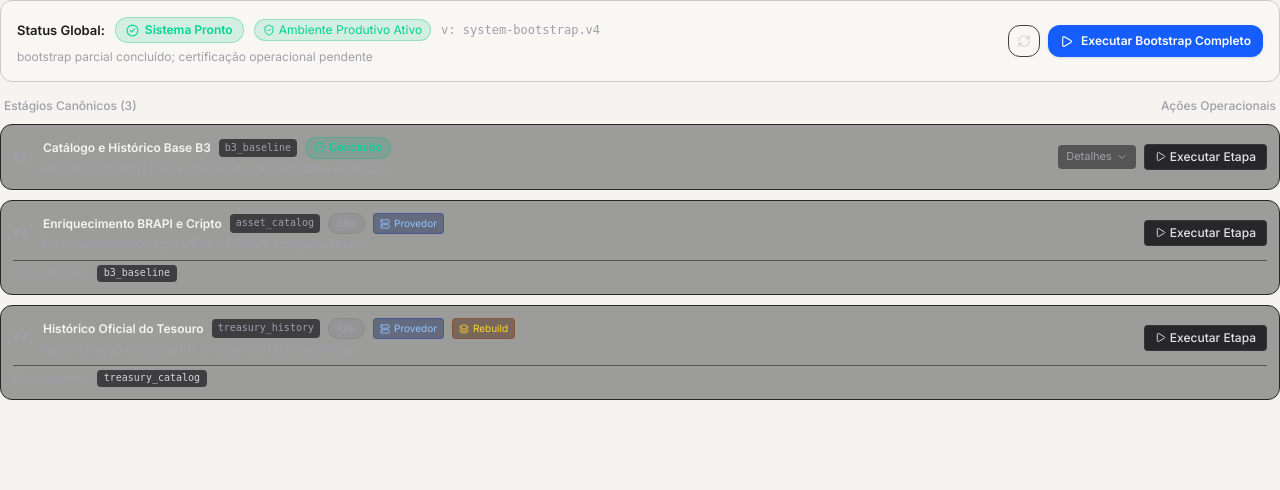
Test: BootstrapPanel (Issue #253) › toggles detail view for a stage with execution details
Expected: the text "Detalhes" is shown, [1066,149,1112,165]
Step 1. Click the button "Detalhes" → [1097, 157], box [1058,145,1136,169]
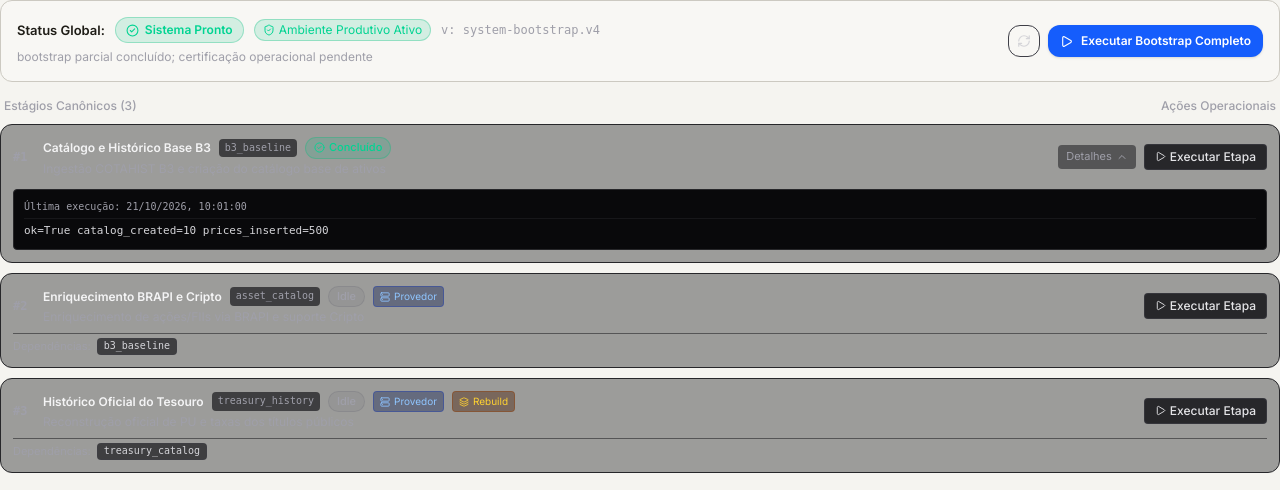
Expected: the text "ok=True catalog_created=10 prices_inserted=500" is shown, [24,224,329,237]
